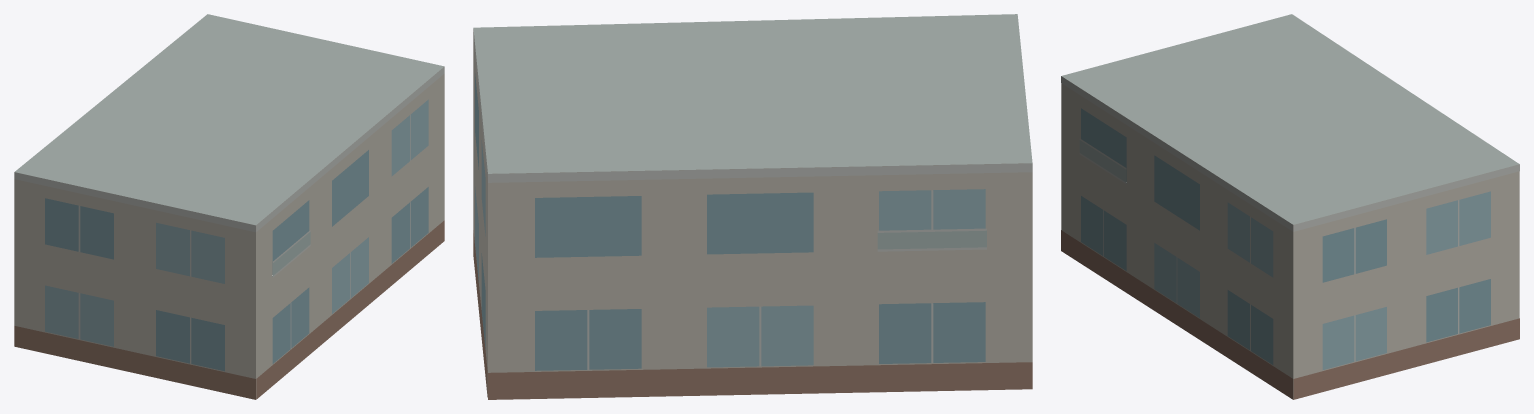
File: survey-upis-32621830.glb
The picture shows the model from 3 angles, left to right: view 1: azimuth 30°, elevation 25°; view 2: azimuth 150°, elevation 25°; view 3: azimuth 270°, elevation 25°; orthographic projection. The views are drawn at different scales.
Visible parts, largest first — view 1: survey-upis-32621830.tmp; view 2: survey-upis-32621830.tmp; view 3: survey-upis-32621830.tmp.
Part boxes in pixels (x1=…): survey-upis-32621830.tmp: x1=14, y1=14, x2=444, y2=399; survey-upis-32621830.tmp: x1=473, y1=14, x2=1032, y2=399; survey-upis-32621830.tmp: x1=1061, y1=14, x2=1519, y2=399.
Bounding box in the file's own units: 15.78 × 6.1 × 14.5.
